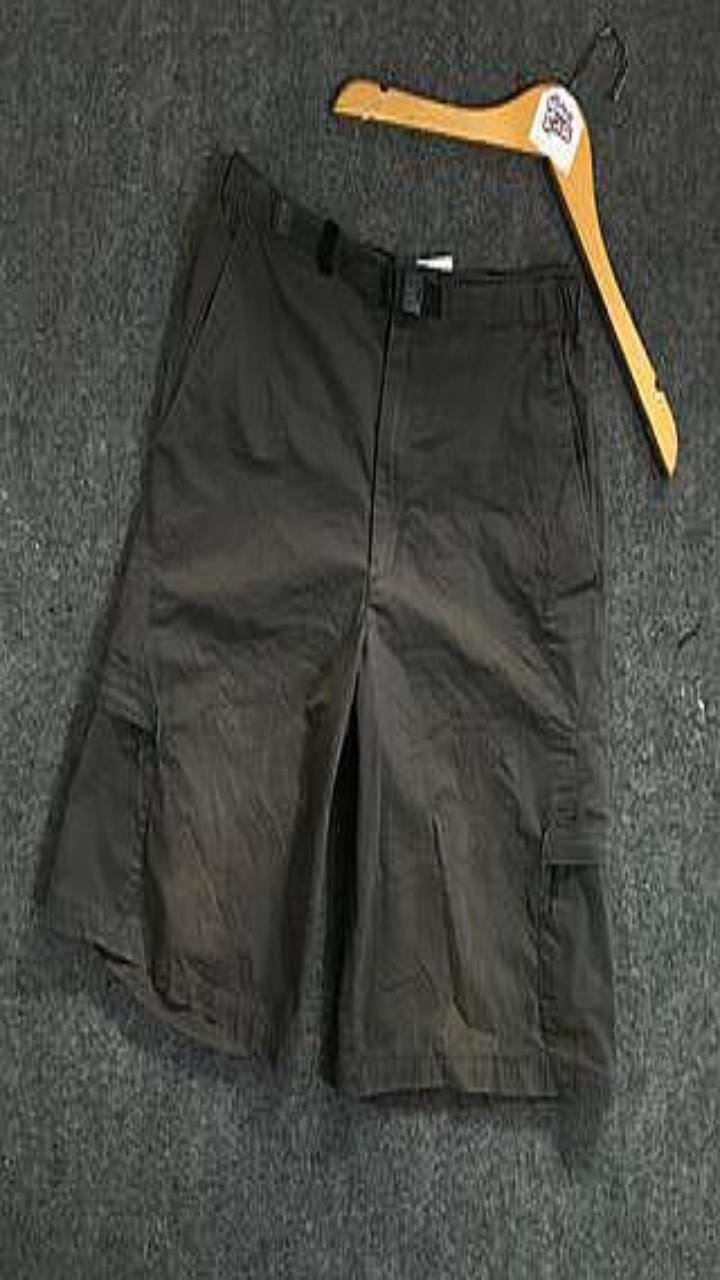Shorts: (40, 150, 614, 1095)
